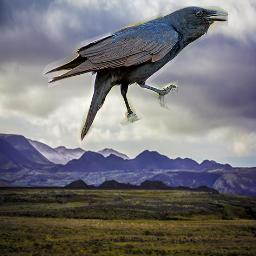Crow: (42, 6, 228, 142)
